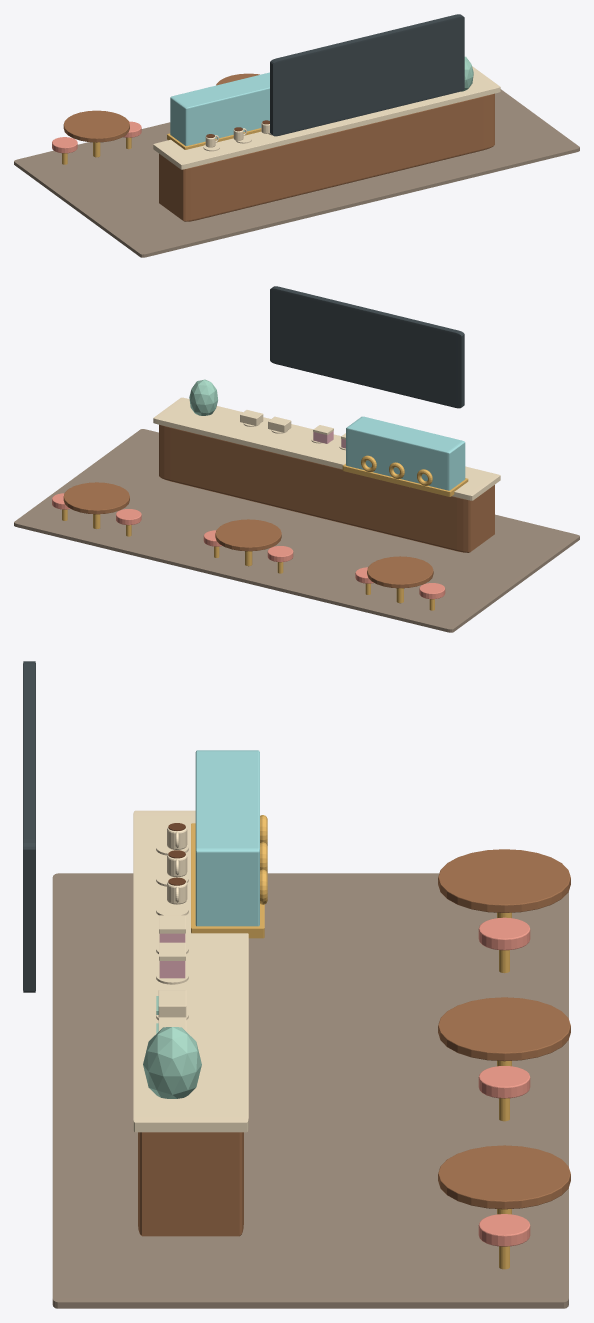
Rendered from cafe_canopy.glb.
3 renders of one model, top to bottom at view 1: azimuth 30°, elevation 25°; view 2: azimuth 150°, elevation 25°; view 3: azimuth 270°, elevation 25°, orthographic. The views are drawn at different scales.
Visible parts, largest first — view 1: Cafe_Floor_Inset, Cafe_Service_Counter, Cafe_Menu_Board, Cafe_Display_Glass, Cafe_Counter_Top, Cafe_Table_1, Cafe_Stool_1_1, Cafe_Display_Base; view 2: Cafe_Floor_Inset, Cafe_Service_Counter, Cafe_Menu_Board, Cafe_Counter_Top, Cafe_Display_Glass, Cafe_Table_3, Cafe_Table_1, Cafe_Table_2, Cafe_Counter_Plant, Cafe_Display_Base; view 3: Cafe_Floor_Inset, Cafe_Counter_Top, Cafe_Display_Glass, Cafe_Service_Counter, Cafe_Table_2, Cafe_Table_3, Cafe_Table_1, Cafe_Menu_Board, Cafe_Counter_Plant, Cafe_Stool_3_2, Cafe_Stool_2_2, Cafe_Stool_1_2 (+2 smaller).
Boxes of the visible parts, x1,y1,x2,y2 form: Cafe_Floor_Inset: (14, 89, 579, 257); Cafe_Service_Counter: (159, 93, 494, 221); Cafe_Menu_Board: (270, 14, 464, 136); Cafe_Display_Glass: (170, 72, 269, 145); Cafe_Counter_Top: (153, 66, 500, 169); Cafe_Table_1: (63, 110, 129, 142); Cafe_Stool_1_1: (52, 137, 77, 153); Cafe_Display_Base: (167, 128, 261, 149); Cafe_Floor_Inset: (14, 429, 579, 632); Cafe_Service_Counter: (159, 424, 494, 552); Cafe_Menu_Board: (270, 286, 464, 408); Cafe_Counter_Top: (153, 397, 500, 500); Cafe_Display_Glass: (346, 416, 465, 490); Cafe_Table_3: (63, 482, 129, 514); Cafe_Table_1: (367, 556, 433, 588); Cafe_Table_2: (215, 519, 281, 551); Cafe_Counter_Plant: (189, 379, 217, 415); Cafe_Display_Base: (342, 463, 468, 496); Cafe_Floor_Inset: (52, 873, 568, 1308); Cafe_Counter_Top: (133, 810, 248, 1132); Cafe_Display_Glass: (195, 750, 259, 926); Cafe_Service_Counter: (138, 1132, 243, 1236); Cafe_Table_2: (438, 997, 570, 1061); Cafe_Table_3: (438, 1145, 570, 1209); Cafe_Table_1: (438, 849, 570, 912); Cafe_Menu_Board: (23, 661, 35, 992); Cafe_Counter_Plant: (143, 1027, 201, 1098); Cafe_Stool_3_2: (478, 1214, 530, 1246); Cafe_Stool_2_2: (478, 1066, 530, 1098); Cafe_Stool_1_2: (478, 917, 530, 950).
Size of the model in its own units: 11 by 4.1 by 5.94.
